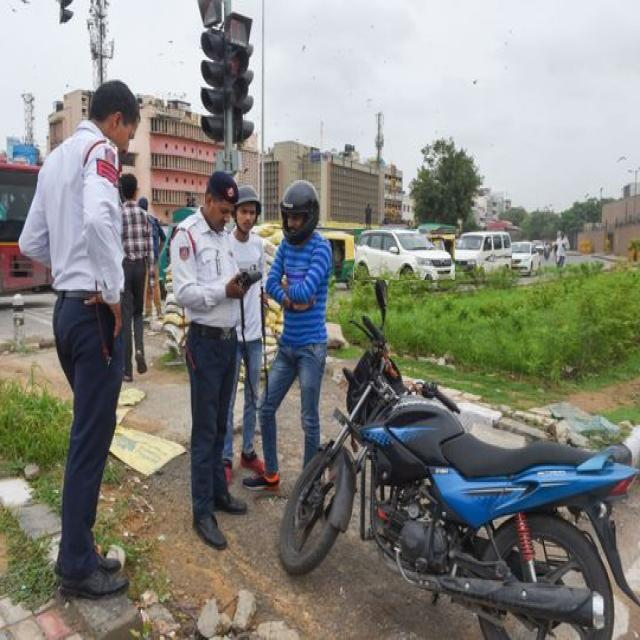car: (354, 230, 455, 280)
motorcycle: (280, 275, 639, 639)
